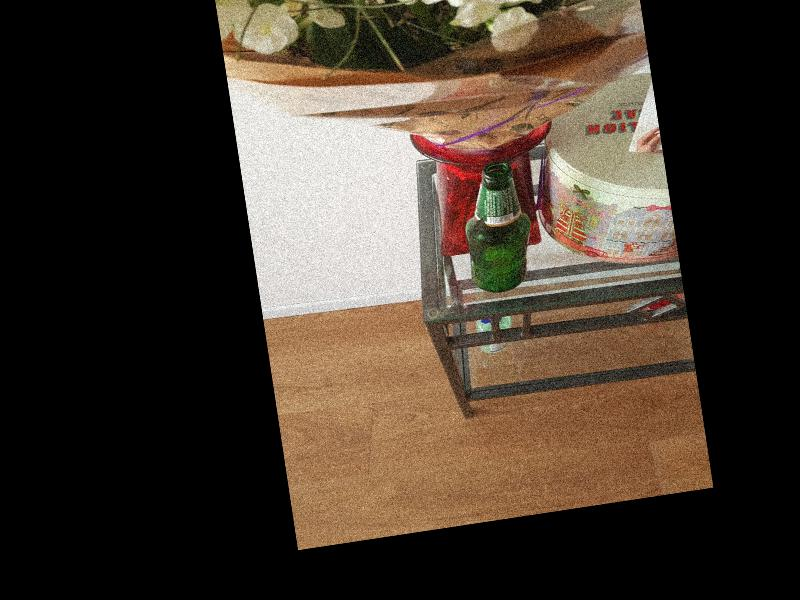Beer: (455, 159, 540, 297)
